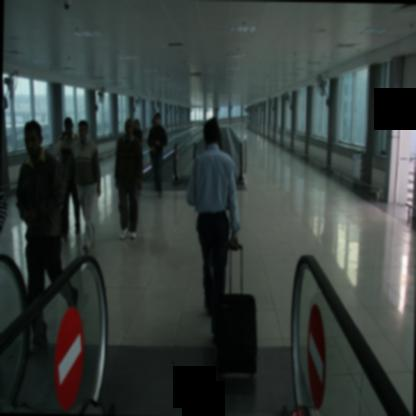suitcase: (215, 245, 257, 375)
